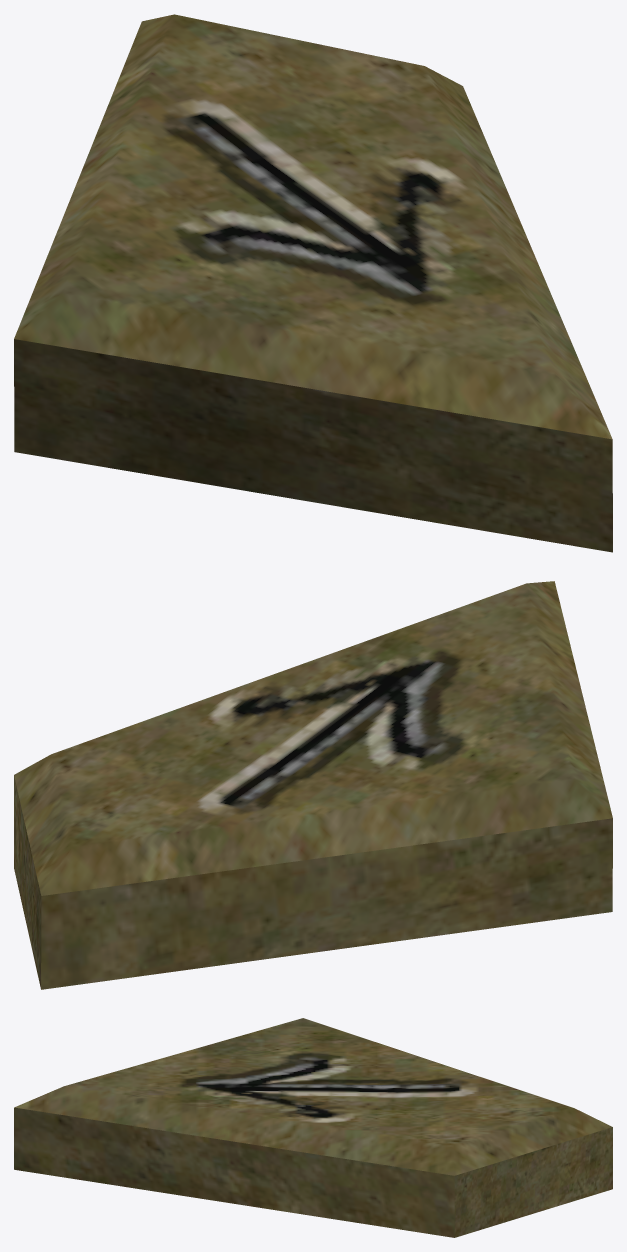
The model's file is INST_SM_RUNED.fbx.
3 views of the same model, one above another, from view 1: azimuth 30°, elevation 25°; view 2: azimuth 150°, elevation 25°; view 3: azimuth 270°, elevation 25° (orthographic). The views are drawn at different scales.
Visible parts, largest first — view 1: INST_SM_RUNED; view 2: INST_SM_RUNED; view 3: INST_SM_RUNED.
Part boxes in pixels (box(x1,y1,x2,y2)): INST_SM_RUNED: box(14, 14, 612, 552); INST_SM_RUNED: box(14, 581, 612, 989); INST_SM_RUNED: box(14, 1018, 612, 1237).
Size of the model in its own units: 5804 by 1500 by 9355.
1 material, 1 textured.
